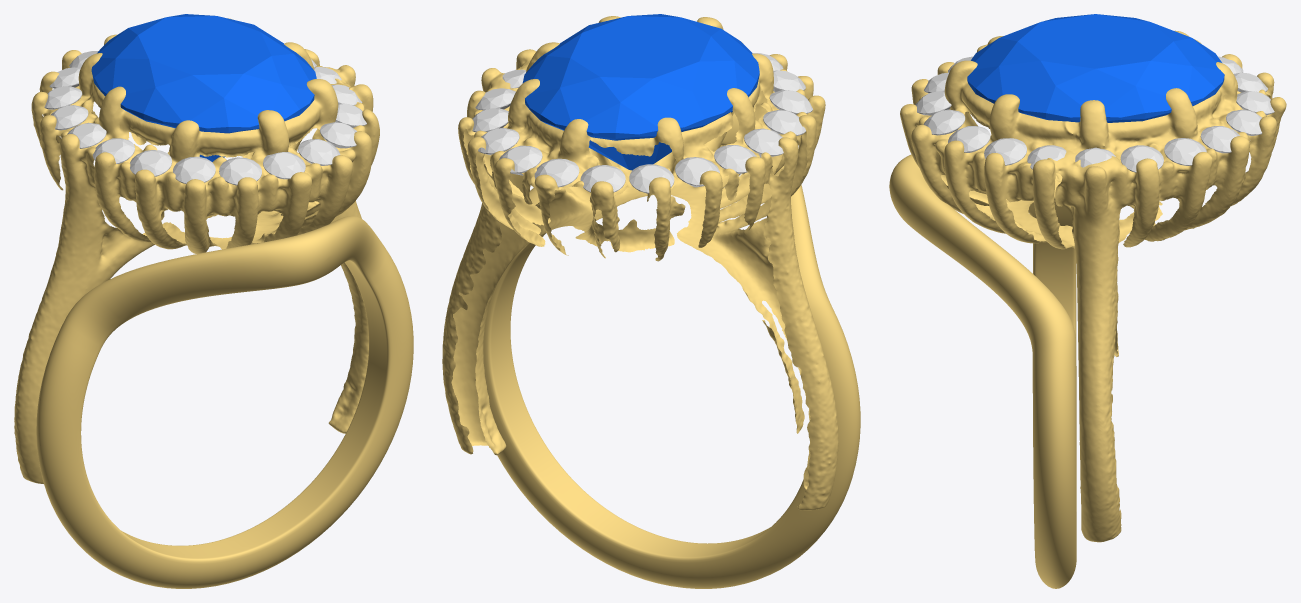
File: DanCurvedV2_blender.glb
3 renders of one model, left to right at view 1: azimuth 30°, elevation 25°; view 2: azimuth 150°, elevation 25°; view 3: azimuth 270°, elevation 25°, orthographic. The views are drawn at different scales.
Visible parts, largest first — view 1: V2 Daniel YG for 3d model, Daniel sapph for 3d model, Daniel dia for 3d model.007, Daniel dia for 3d model.009, Daniel dia for 3d model.008, Daniel dia for 3d model.006, Daniel dia for 3d model.010, Daniel dia for 3d model.011, Daniel dia for 3d model.005, Daniel dia for 3d model.003, Daniel dia for 3d model.004, Daniel dia for 3d model.002 (+1 smaller); view 2: V2 Daniel YG for 3d model, Daniel sapph for 3d model, Daniel dia for 3d model.002, Daniel dia for 3d model.019, Daniel dia for 3d model, Daniel dia for 3d model.004, Daniel dia for 3d model.003, Daniel dia for 3d model.001, Daniel dia for 3d model.018, Daniel dia for 3d model.005, Daniel dia for 3d model.017, Daniel dia for 3d model.006 (+3 smaller); view 3: V2 Daniel YG for 3d model, Daniel sapph for 3d model, Daniel dia for 3d model.016, Daniel dia for 3d model.012, Daniel dia for 3d model.010, Daniel dia for 3d model.011, Daniel dia for 3d model.017, Daniel dia for 3d model.015, Daniel dia for 3d model.018, Daniel dia for 3d model.019, Daniel dia for 3d model.009, Daniel dia for 3d model.013.
Boxes of the visible parts, x1,y1,x2,y2 form: V2 Daniel YG for 3d model: (14, 18, 413, 588); Daniel sapph for 3d model: (91, 14, 316, 161); Daniel dia for 3d model.007: (173, 156, 215, 183); Daniel dia for 3d model.009: (263, 152, 305, 179); Daniel dia for 3d model.008: (219, 157, 261, 185); Daniel dia for 3d model.006: (130, 150, 172, 176); Daniel dia for 3d model.010: (298, 139, 340, 165); Daniel dia for 3d model.011: (320, 122, 356, 148); Daniel dia for 3d model.005: (92, 138, 134, 163); Daniel dia for 3d model.003: (51, 105, 88, 130); Daniel dia for 3d model.004: (67, 122, 106, 148); Daniel dia for 3d model.002: (44, 86, 82, 109); V2 Daniel YG for 3d model: (442, 16, 860, 588); Daniel sapph for 3d model: (522, 14, 759, 170); Daniel dia for 3d model.002: (675, 157, 719, 187); Daniel dia for 3d model.019: (534, 158, 579, 187); Daniel dia for 3d model: (580, 165, 625, 192); Daniel dia for 3d model.004: (744, 128, 783, 157); Daniel dia for 3d model.003: (714, 145, 756, 173); Daniel dia for 3d model.001: (629, 164, 674, 194); Daniel dia for 3d model.018: (499, 145, 542, 175); Daniel dia for 3d model.005: (763, 110, 805, 135); Daniel dia for 3d model.017: (478, 127, 519, 155); Daniel dia for 3d model.006: (769, 90, 812, 114); V2 Daniel YG for 3d model: (889, 30, 1286, 588); Daniel sapph for 3d model: (967, 14, 1224, 122); Daniel dia for 3d model.016: (1164, 138, 1206, 165); Daniel dia for 3d model.012: (984, 138, 1026, 165); Daniel dia for 3d model.010: (923, 109, 965, 135); Daniel dia for 3d model.011: (948, 126, 990, 152); Daniel dia for 3d model.017: (1200, 126, 1239, 153); Daniel dia for 3d model.015: (1120, 145, 1163, 172); Daniel dia for 3d model.018: (1226, 109, 1262, 135); Daniel dia for 3d model.019: (1236, 91, 1274, 115); Daniel dia for 3d model.009: (915, 91, 951, 115); Daniel dia for 3d model.013: (1027, 145, 1066, 169).
Bounding box in the file's own units: 20.13 × 26.89 × 18.36.
